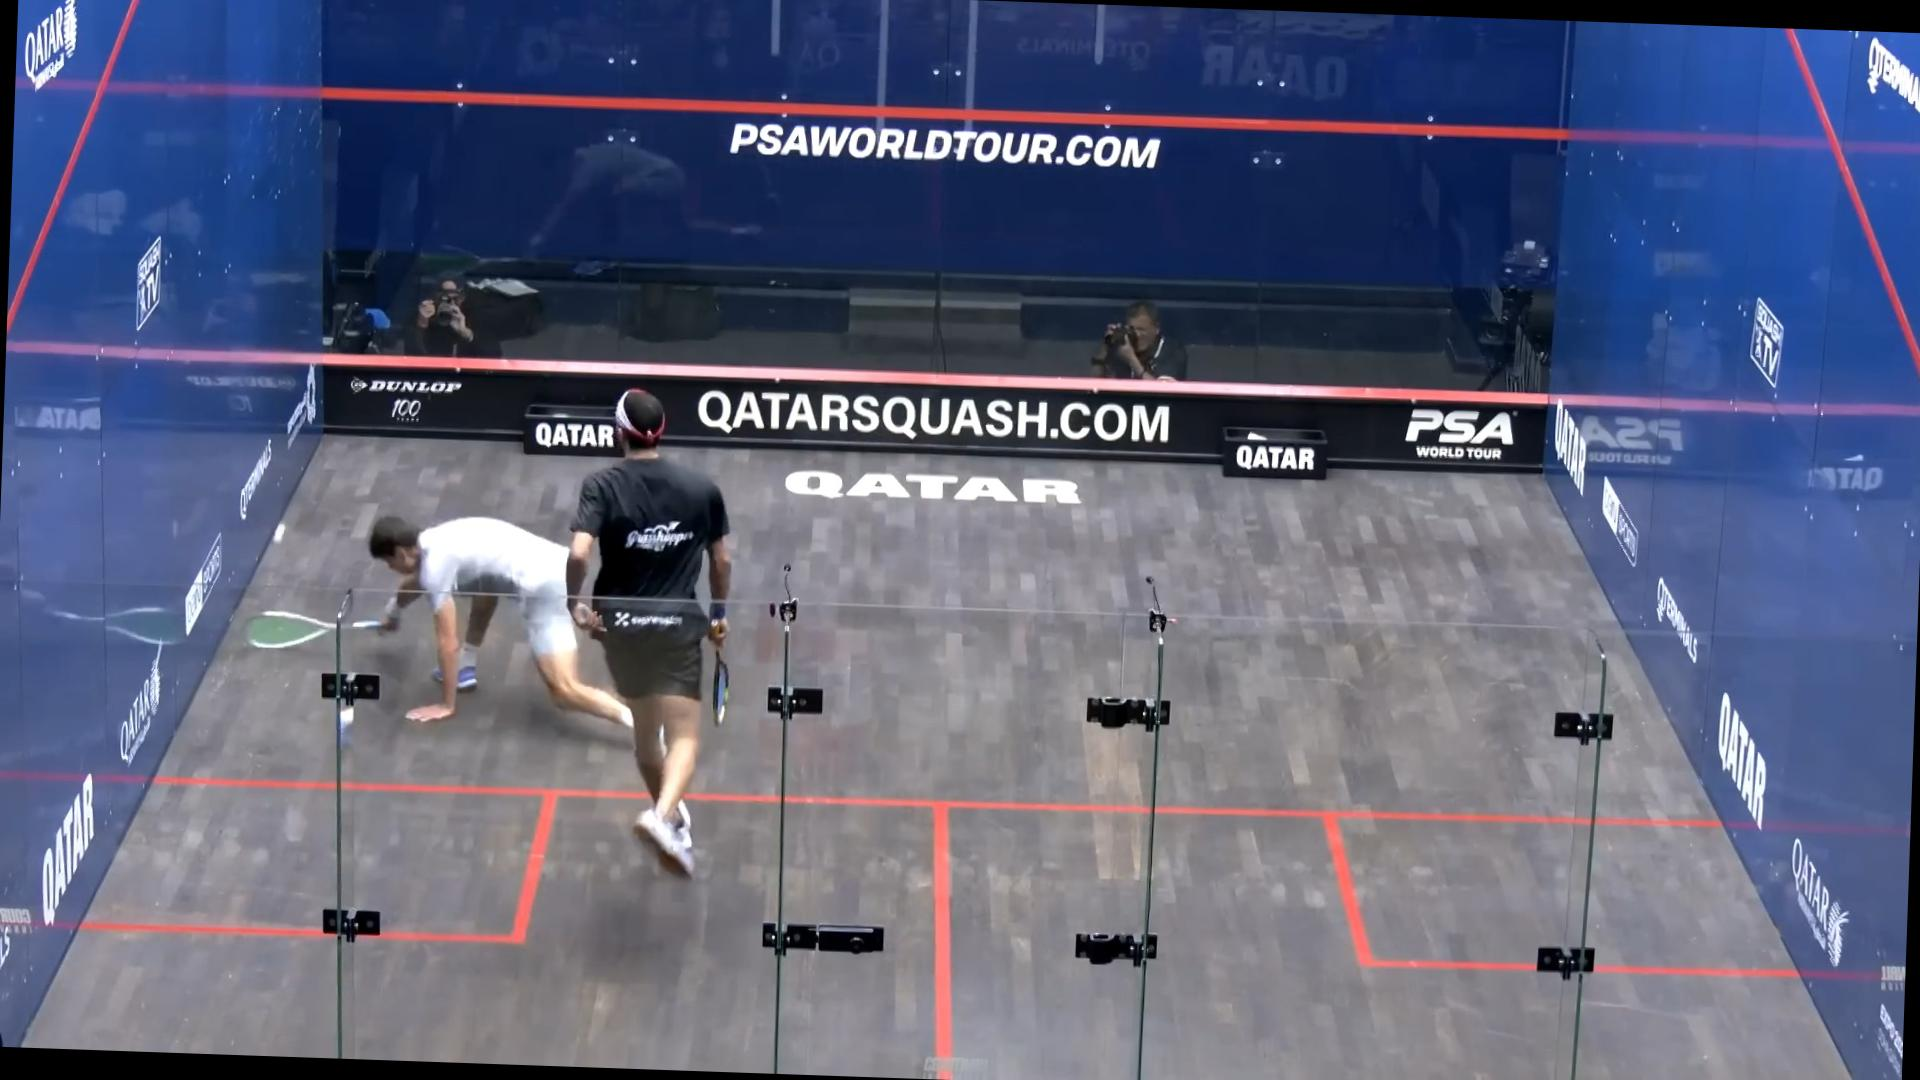Racket: (237, 592, 389, 659), (702, 640, 742, 728)
